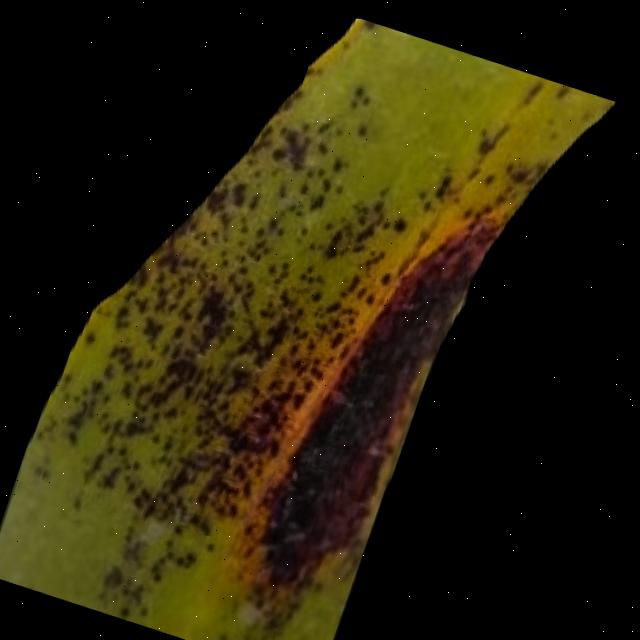mite: (339, 67, 636, 640), (191, 277, 247, 353), (272, 117, 323, 171), (396, 207, 416, 230), (127, 599, 146, 617)
